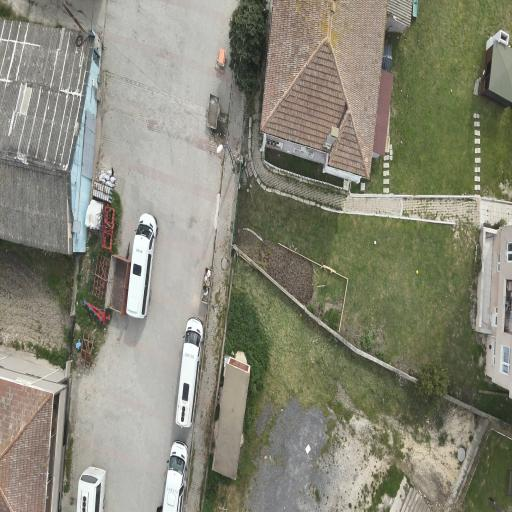car: (127, 214, 157, 318), (176, 318, 203, 427), (163, 441, 188, 511), (76, 466, 106, 512)
person: (157, 506, 162, 511)
